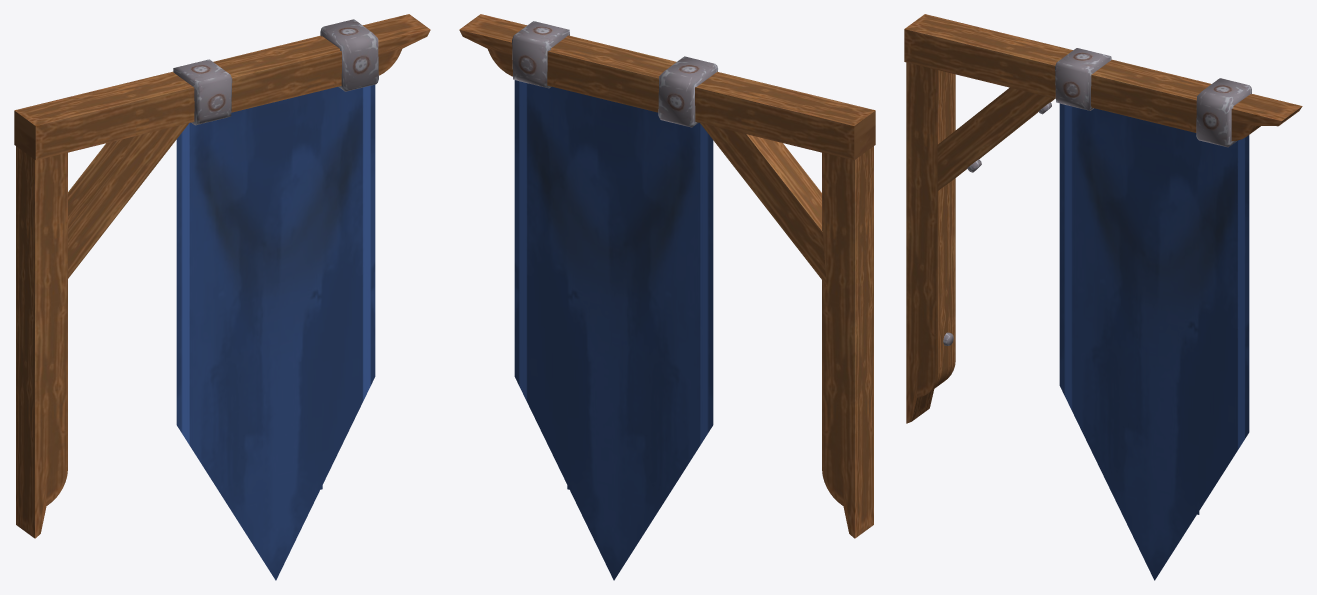
The model's file is Banner_2.gltf.
3 renders of one model, left to right at view 1: azimuth 30°, elevation 25°; view 2: azimuth 150°, elevation 25°; view 3: azimuth 330°, elevation 25°, orthographic. The views are drawn at different scales.
Parts seen in each view (by area): view 1: Banner_2; view 2: Banner_2; view 3: Banner_2.
Boxes of the visible parts, left/top/right/bottom form: Banner_2: left=14, top=14, right=430, bottom=580; Banner_2: left=459, top=14, right=875, bottom=580; Banner_2: left=904, top=14, right=1302, bottom=580.
Size of the model in its own units: 1.61 by 2.08 by 0.1906.
Materials: 3 (3 with a texture image).
